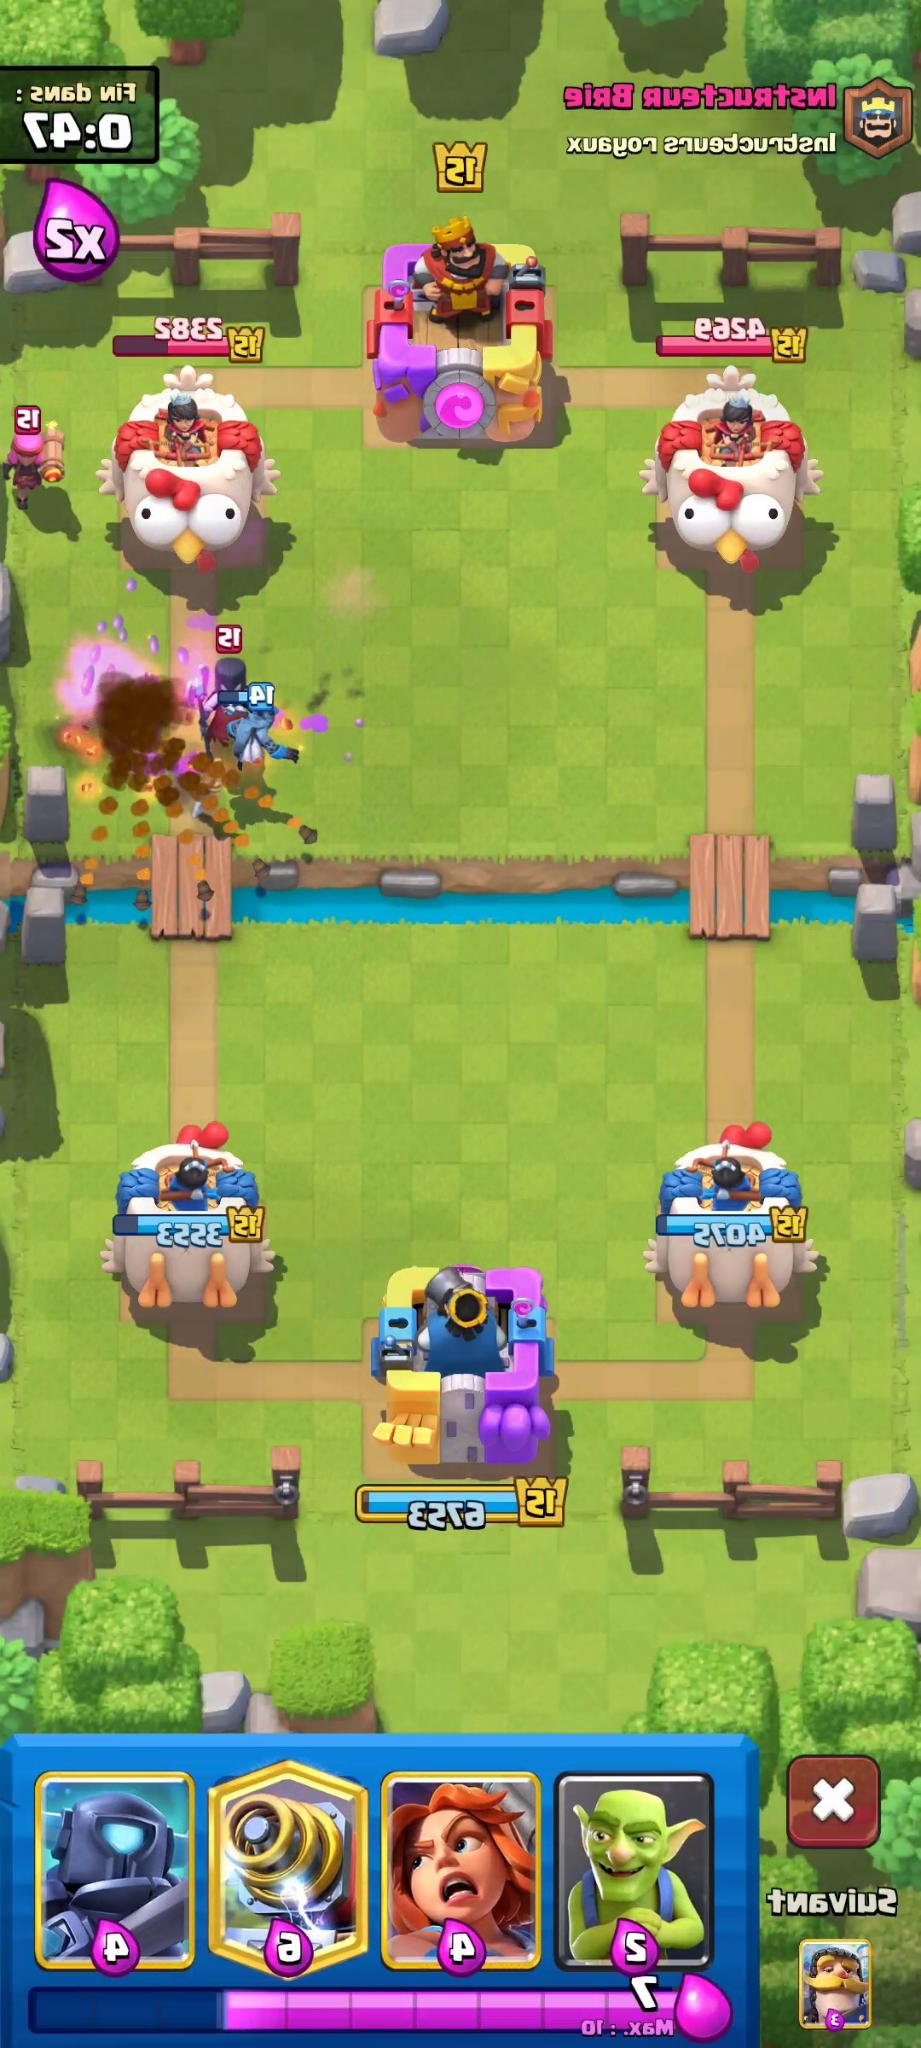gargouille: (221, 697, 299, 771)
